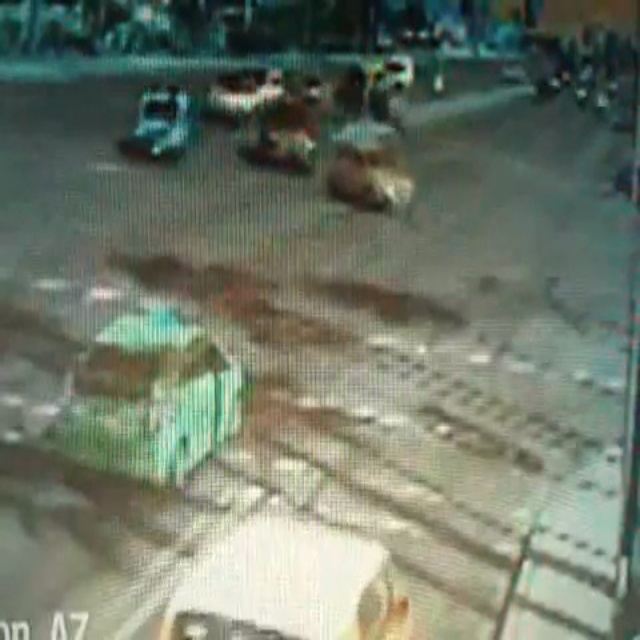acc: (236, 102, 417, 220)
